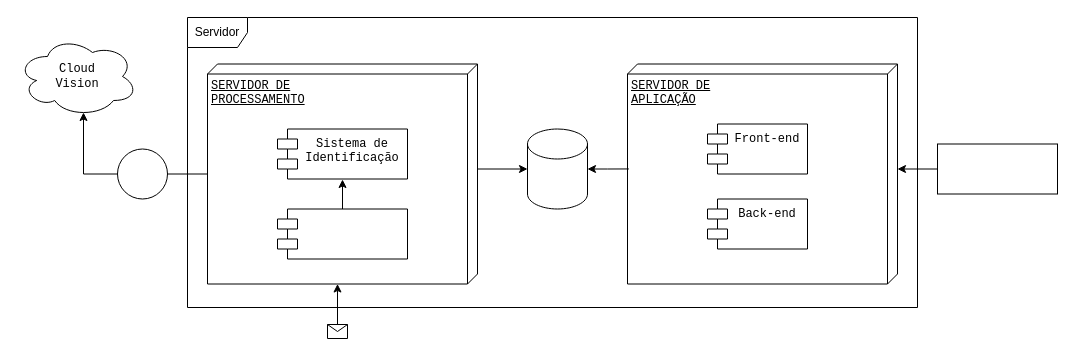
Some shapes in this 1075 by 356 pixel diagram are drawn without their labels. The shapes that lost their labels are listed below. From the top down, each one's centre as x and y in pixels, then its label:
At (x=142, y=173): "API".
At (x=557, y=168): "Data Base".
At (x=997, y=168): "«interface» Browser".
At (x=342, y=233): "AMQP Consumer".
